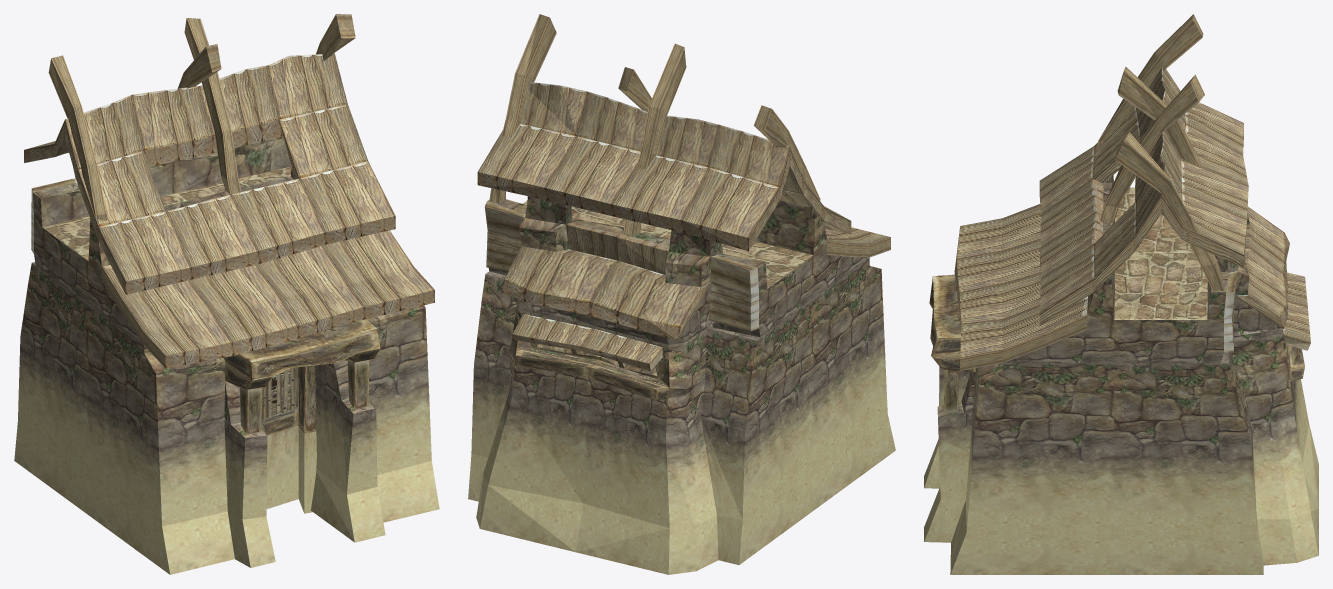
The model's file is C3SMWA20LGC_H.obj.
3 views of the same model, side by side, from view 1: azimuth 30°, elevation 25°; view 2: azimuth 150°, elevation 25°; view 3: azimuth 270°, elevation 25° (orthographic).
Parts seen in each view (by area): view 1: Node 0; view 2: Node 0; view 3: Node 0.
Part boxes in pixels (x1,y1,x2,y2): Node 0: (14, 14, 439, 574); Node 0: (468, 14, 895, 574); Node 0: (924, 14, 1318, 574).
Bounding box in the file's own units: 10.04 × 15.51 × 12.61.
2 materials, 2 textured.
